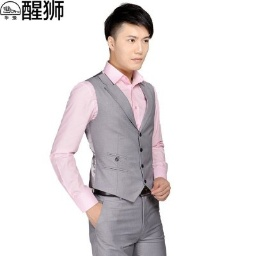face: (101, 1, 156, 72)
